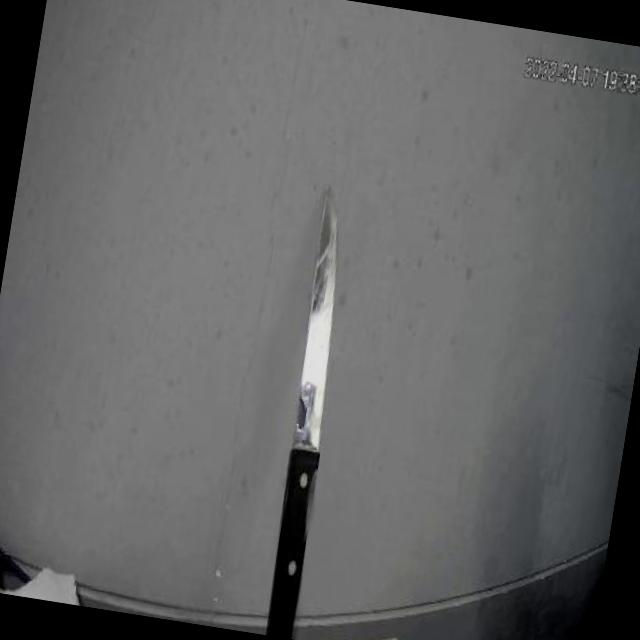knife: (240, 167, 391, 640)
